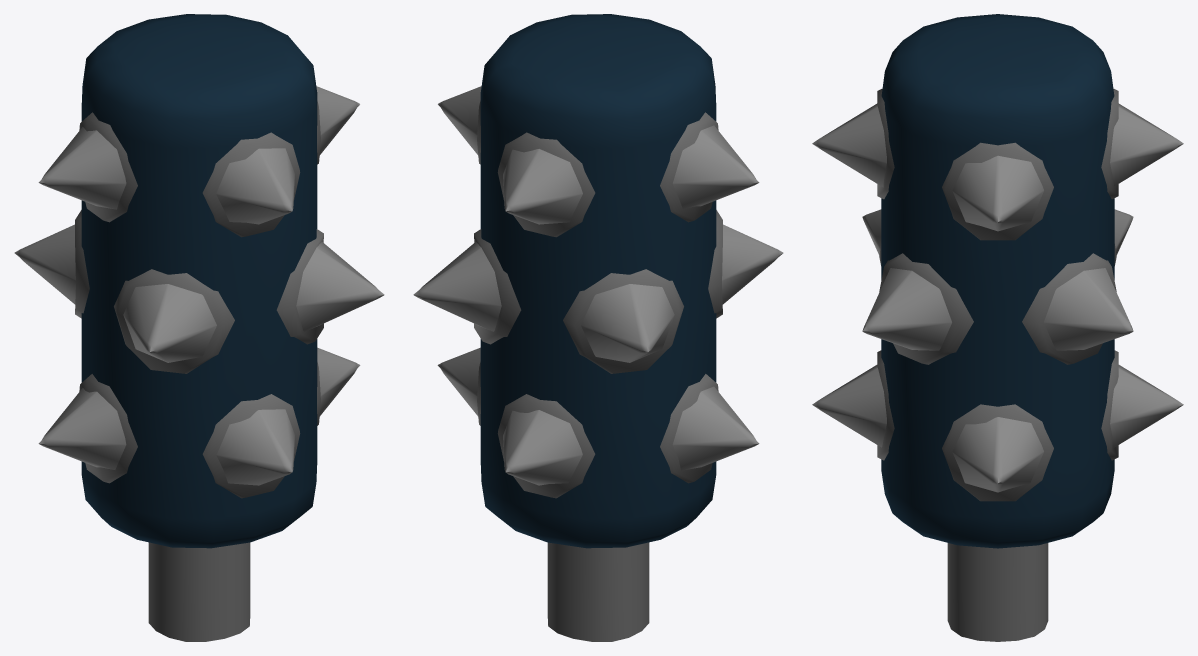
The model's file is quaternius-platformer-game-hazard-cylinder.glb.
The picture shows the model from 3 angles, left to right: view 1: azimuth 30°, elevation 25°; view 2: azimuth 150°, elevation 25°; view 3: azimuth 270°, elevation 25°; orthographic projection.
Parts seen in each view (by area): view 1: Hazard_Cylinder; view 2: Hazard_Cylinder; view 3: Hazard_Cylinder.
Boxes of the visible parts, x1,y1,x2,y2 form: Hazard_Cylinder: (14,14,384,641); Hazard_Cylinder: (413,14,783,641); Hazard_Cylinder: (812,14,1183,641).
Size of the model in its own units: 2.28 by 3.88 by 2.28.
